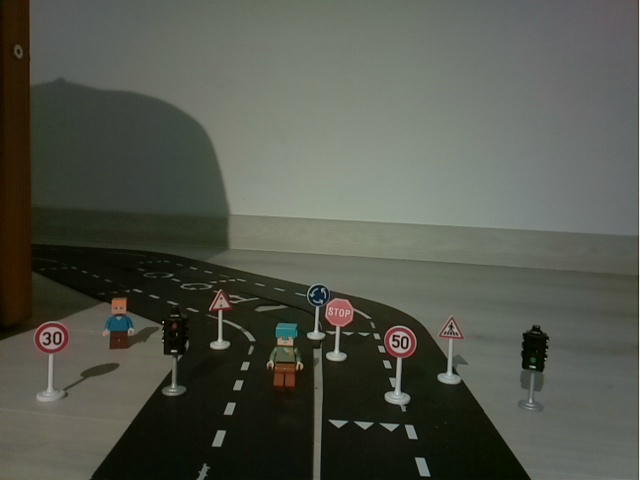green light: (513, 319, 554, 417)
limit 30: (31, 320, 72, 408)
limit 50: (381, 322, 417, 409)
pedestrian sign: (433, 312, 468, 389)
person: (97, 295, 141, 354)
red light: (158, 304, 193, 400)
round: (305, 283, 326, 341)
second person: (261, 322, 305, 391)
stop: (327, 299, 352, 365)
traffic light sign: (202, 286, 236, 355)
